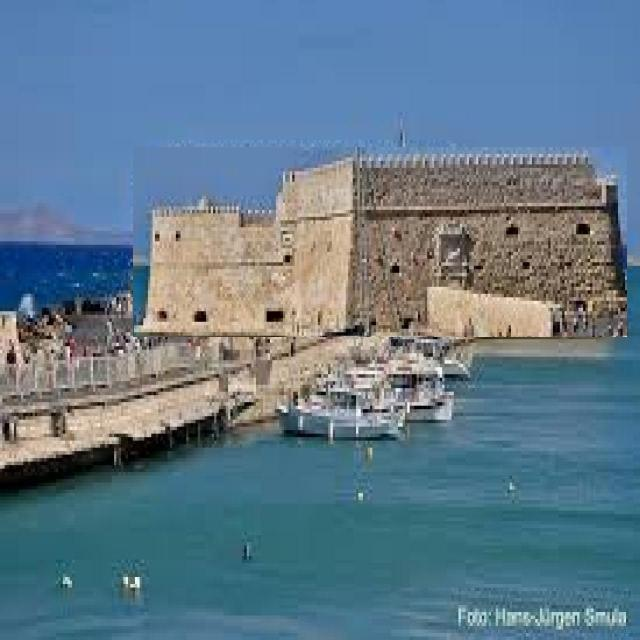Kules: (134, 148, 628, 338)
